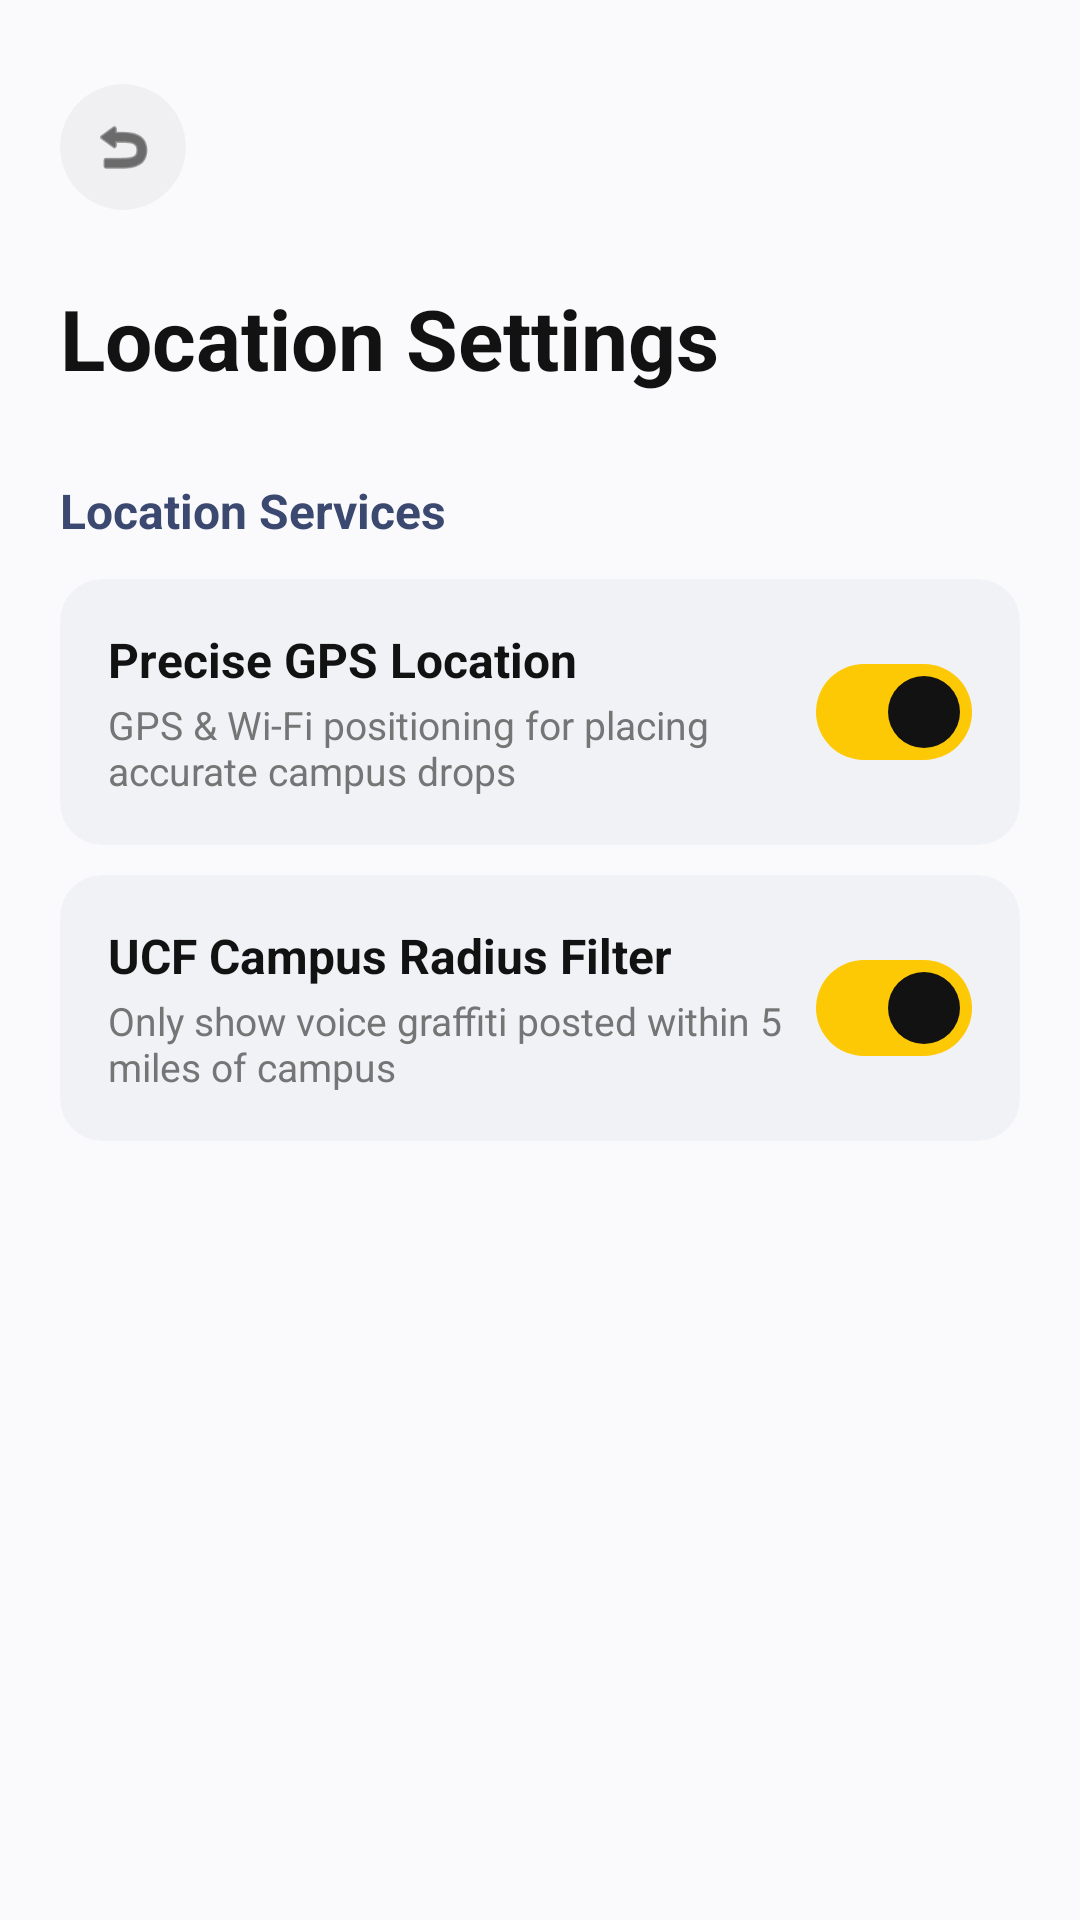

Where to tap for icons on this 1080w x 1920h app screen, as point (x, y):
revert: point (124, 147)
